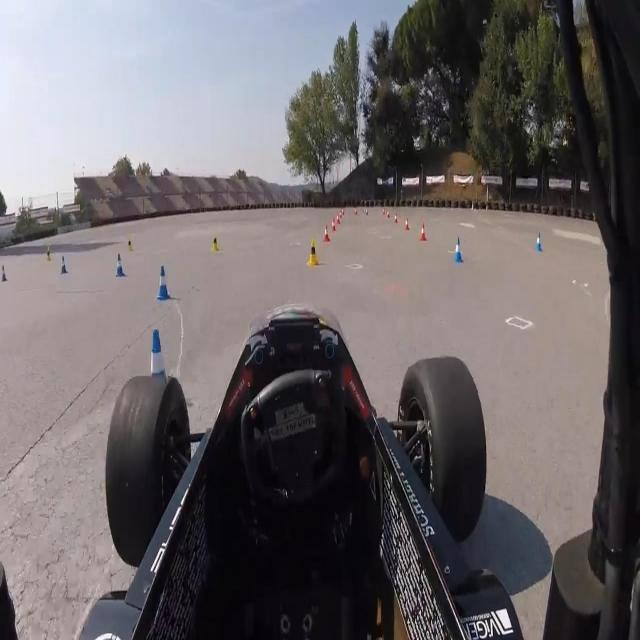blue_cone: (140, 327, 179, 459), (156, 265, 172, 304), (115, 253, 126, 281), (453, 238, 464, 266), (60, 253, 68, 276), (535, 233, 542, 252), (2, 265, 8, 284)
orange_cone: (323, 223, 330, 244), (419, 223, 427, 241), (405, 216, 410, 232), (331, 219, 336, 234), (395, 212, 398, 223), (337, 214, 340, 225)
yellow_cone: (307, 238, 320, 266), (210, 235, 220, 254), (125, 237, 133, 255), (46, 244, 52, 264)
